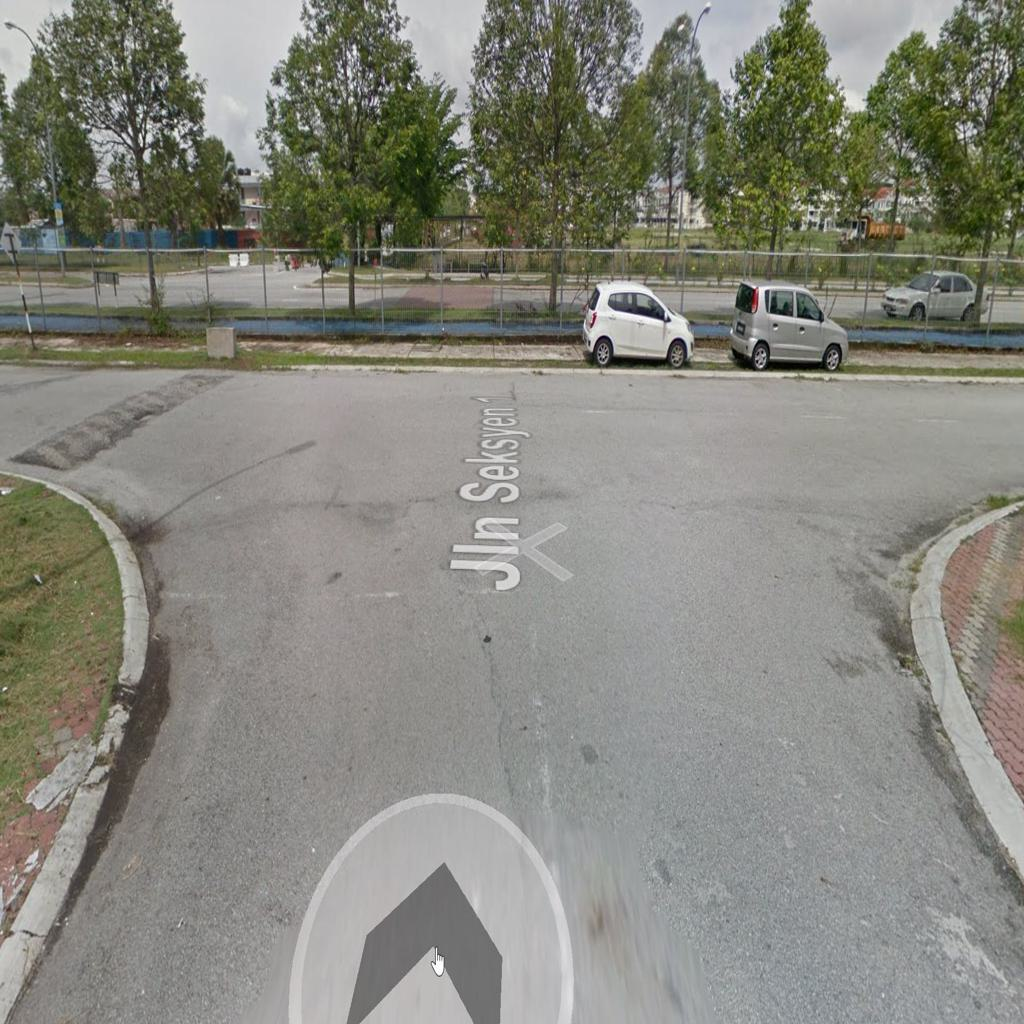Junction: (722, 345, 1024, 623), (10, 342, 257, 631)
